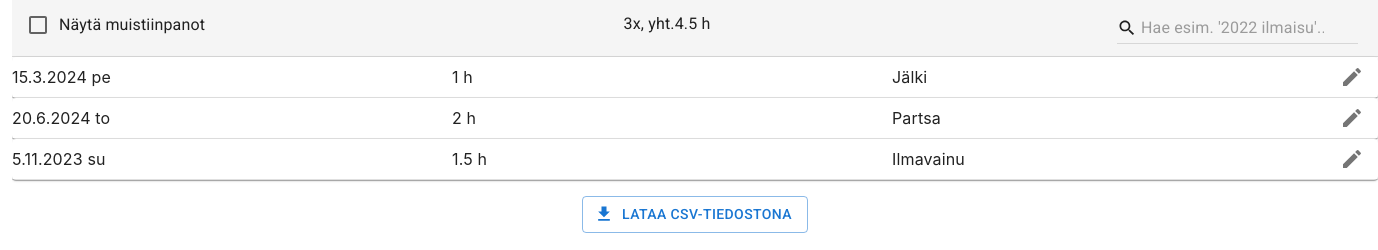
Reenit — hakusuodatus › suodattaa kategorian perusteella
In the field with placeholder "Hae esim. '2022 ilmaisu'...": (1232,28) [1141, 12, 1324, 44], type "Jälki"
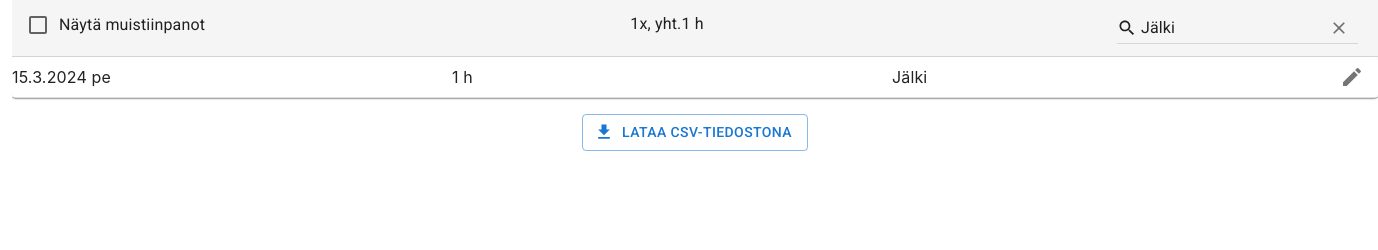
Expected: the text "Jälki" is shown, [892, 67, 927, 87]
Now the text "Partsa" is gone
Now the text "Ilmavainu" is gone
